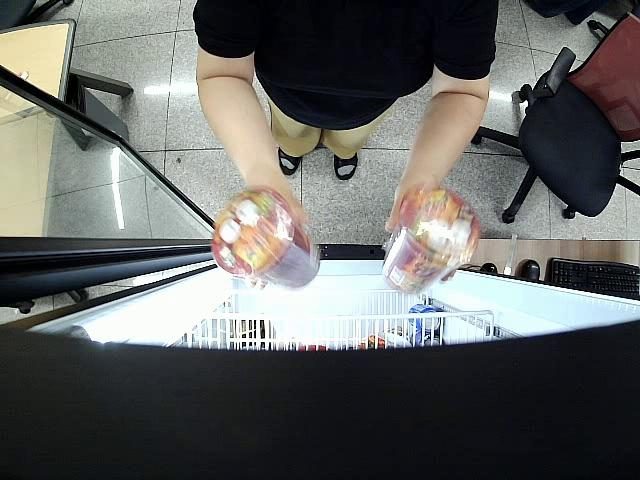00_hand: (385, 179, 457, 282), (249, 184, 307, 289)
06_nuguri_S: (212, 189, 325, 289), (382, 184, 481, 294)
